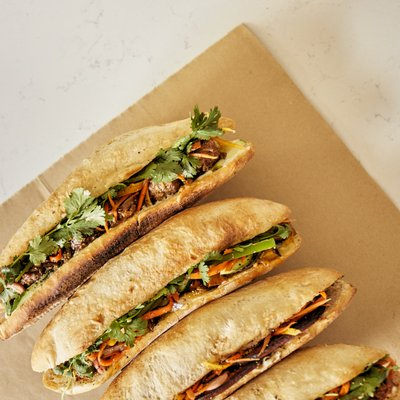soup: (0, 105, 258, 350)
